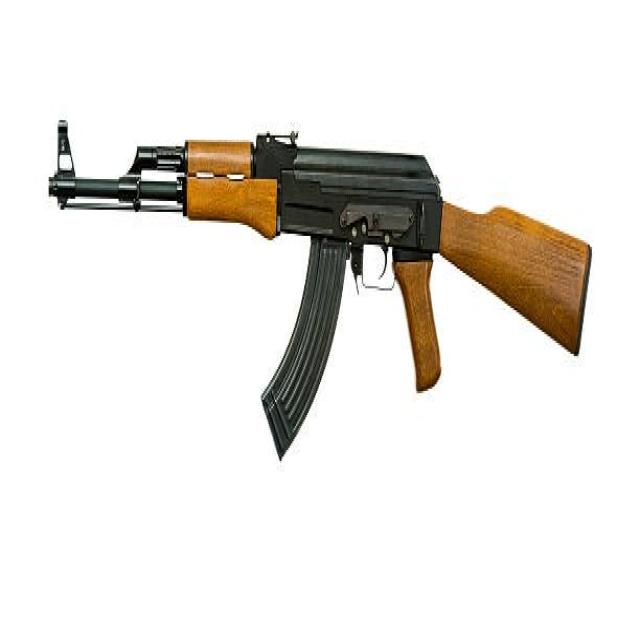rifle: (45, 106, 598, 465)
